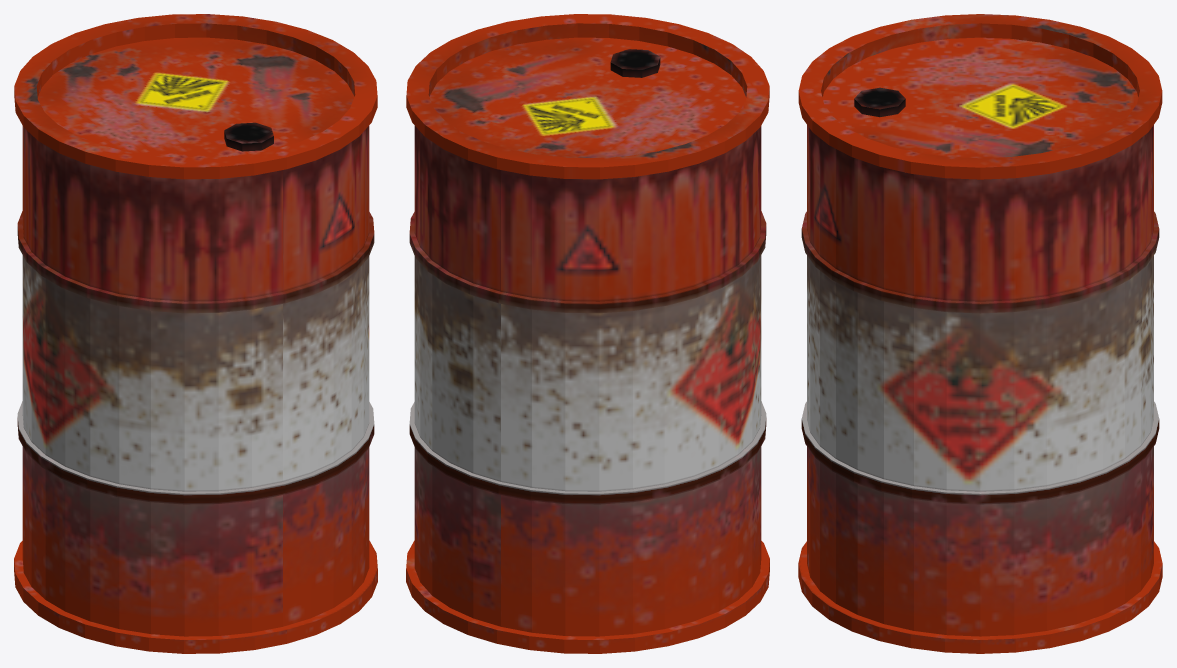
File: Explosive Barrel.fbx
3 views of the same model, side by side, from view 1: azimuth 30°, elevation 25°; view 2: azimuth 150°, elevation 25°; view 3: azimuth 270°, elevation 25° (orthographic).
Visible parts, largest first — view 1: Explosive Barrel; view 2: Explosive Barrel; view 3: Explosive Barrel.
Boxes of the visible parts, x1,y1,x2,y2 form: Explosive Barrel: (14,14,377,653); Explosive Barrel: (406,14,769,653); Explosive Barrel: (798,14,1162,653).
Bounding box in the file's own units: 210 × 309 × 210.
1 material, 1 textured.
